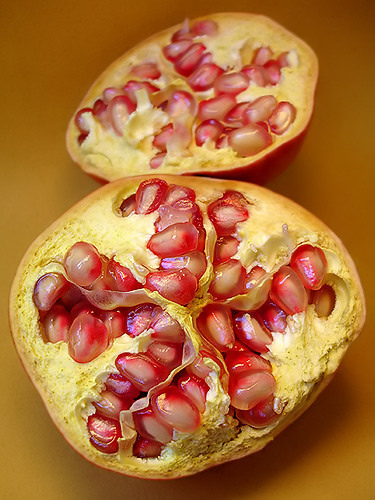pomogranate: (8, 173, 366, 481), (62, 8, 321, 186)
